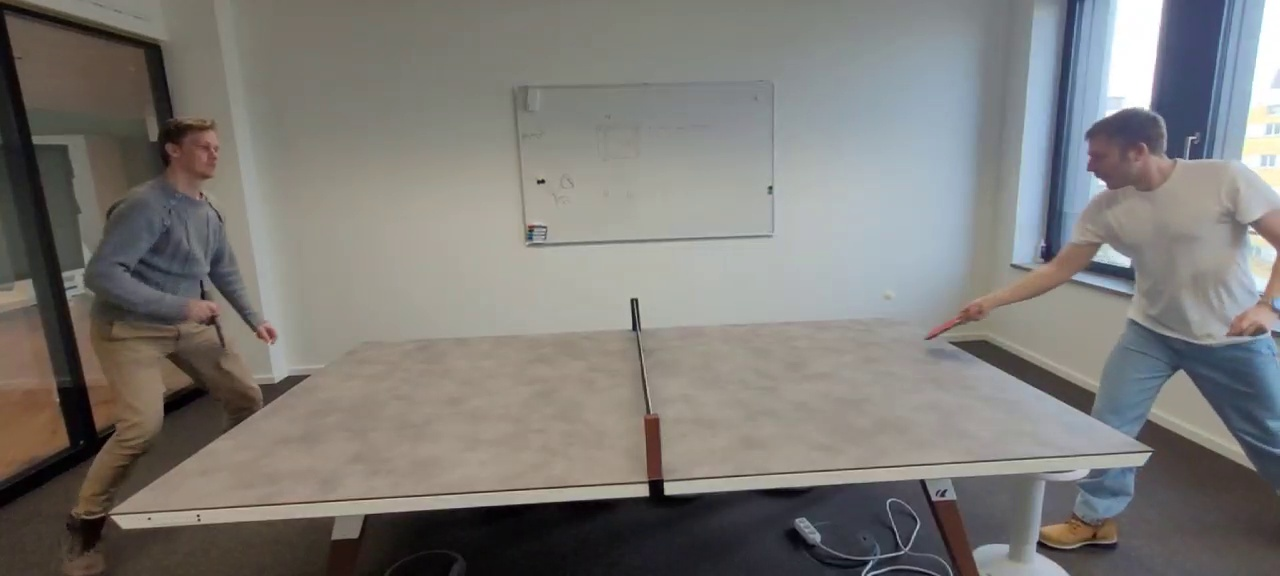1: (924, 307, 983, 340), (213, 318, 225, 348)
2: (884, 291, 893, 300)
ttplatte: (108, 318, 1151, 513)
